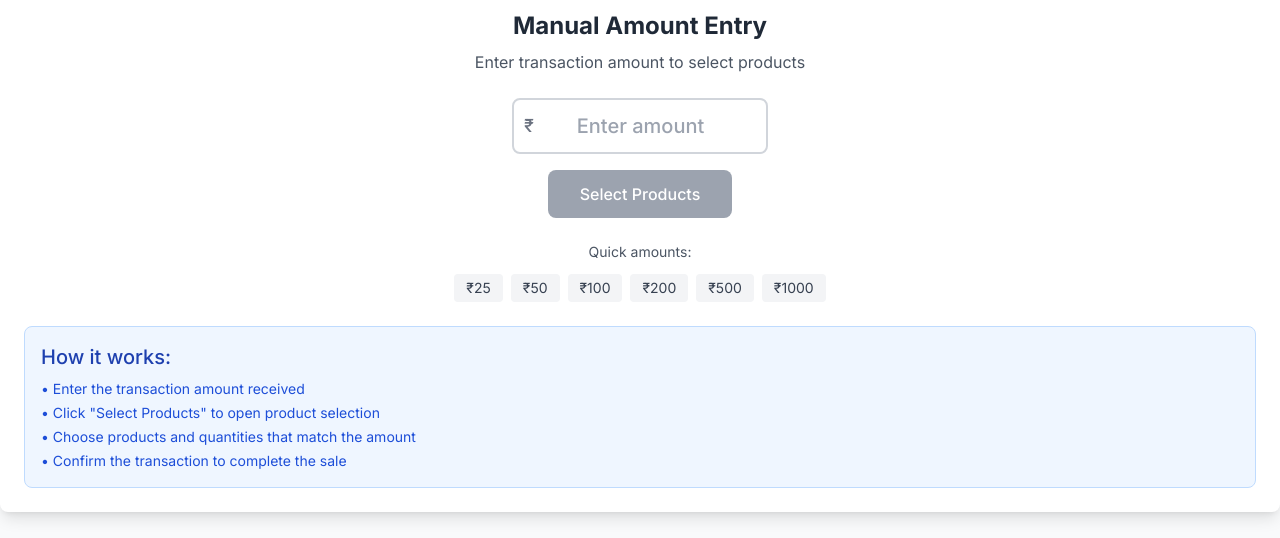
ManualAmountEntry › enables submit button when valid amount entered
Type "50" into the number field with placeholder "Enter amount". click: coordinates (640, 126)
box: 512,98 -> 768,154
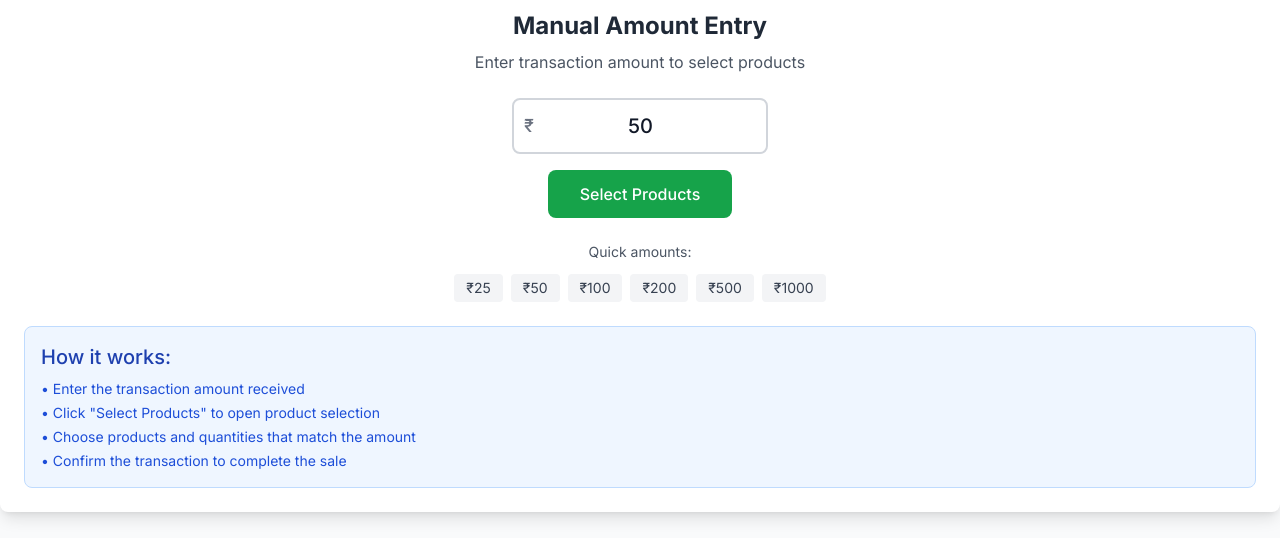
Now the button "Select Products" is enabled, box 548,170 -> 732,218
